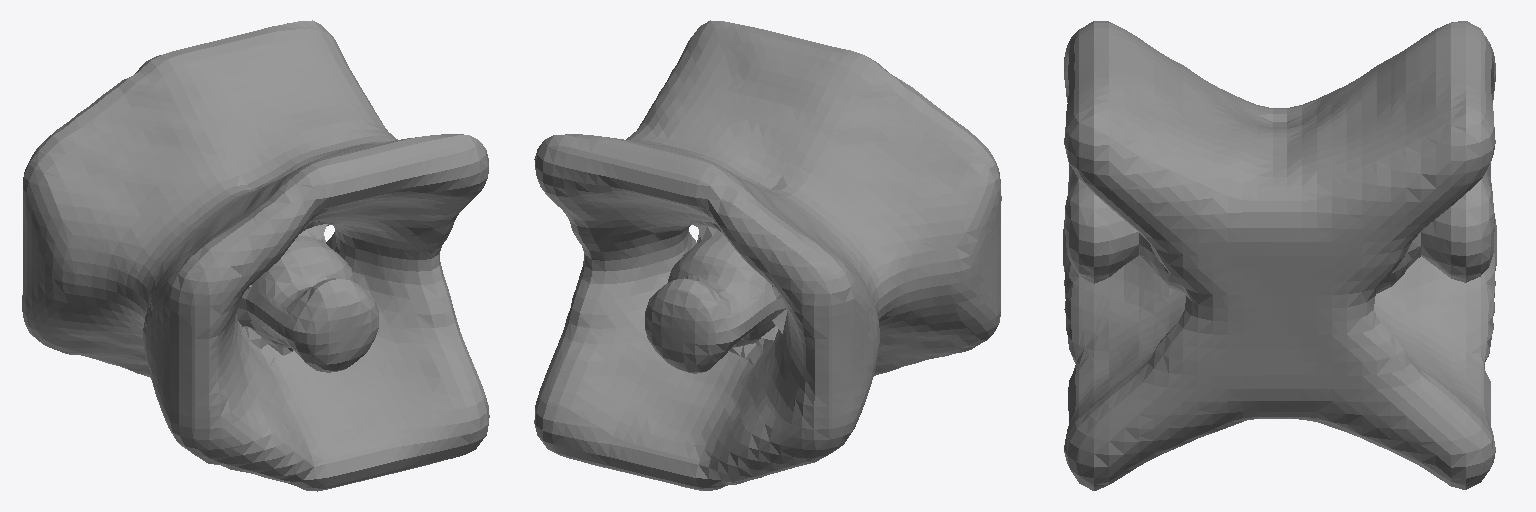
The robot description file, URDF, robot "cube.urdf":
<?xml version="0.0" ?> 
<robot name="cube.urdf"> 
<link name="legobrick"> 
<contact> 
<lateral_friction value="5.0"/> 
<rolling_friction value="0.0"/> 
<contact_cfm value="0.0"/> 
<contact_erp value="1.0"/> 
</contact> 
<inertial> 
<origin rpy="0 0 0" xyz="0.0 0.0 0.0"/> 
<mass value=".01"/> 
<inertia ixx="1" ixy="0" ixz="0" iyy="1" iyz="0" izz="1"/> 
</inertial> 
<visual> 
<origin rpy="1.570796 0 0" xyz="-0.027365652320729246 0.02584574825747019 -0.025799472619930656"/> 
<geometry> 
<mesh filename="Q10_3.obj" scale="0.0006890669624514822 0.0006890669624514822 0.0006890669624514822"/> 
</geometry> 
<material name="yellow"> 
<color rgba="0.6 0.6 0.6 1"/> 
</material> 
</visual> 
<collision> 
<origin rpy="1.570796 0 0" xyz="-0.027365652320729246 0.02584574825747019 -0.025799472619930656"/> 
<geometry> 
<mesh filename="Q10_3.obj" scale="0.0006890669624514822 0.0006890669624514822 0.0006890669624514822"/> 
</geometry> 
</collision> 
</link> 
</robot>

--- Facts derived from the render (not from the file) ---
3 views of the same robot in one strip: view 1: azimuth 30°, elevation 25°; view 2: azimuth 150°, elevation 25°; view 3: azimuth 270°, elevation 25° (orthographic).
Robot: cube.urdf — 1 links, 0 joints (none); root link legobrick; default pose: every joint at zero.
Links seen in each view (by area): view 1: legobrick; view 2: legobrick; view 3: legobrick.
Link boxes in pixels (x1,y1,x2,y2): legobrick: (22,20,489,491); legobrick: (534,20,1001,490); legobrick: (1063,21,1496,490).
Size in the robot's own frame: 0.0562 by 0.056 by 0.0551 metres.
Meshes: 1 distinct files referenced, 1 mesh visuals loaded (1 OBJ).
